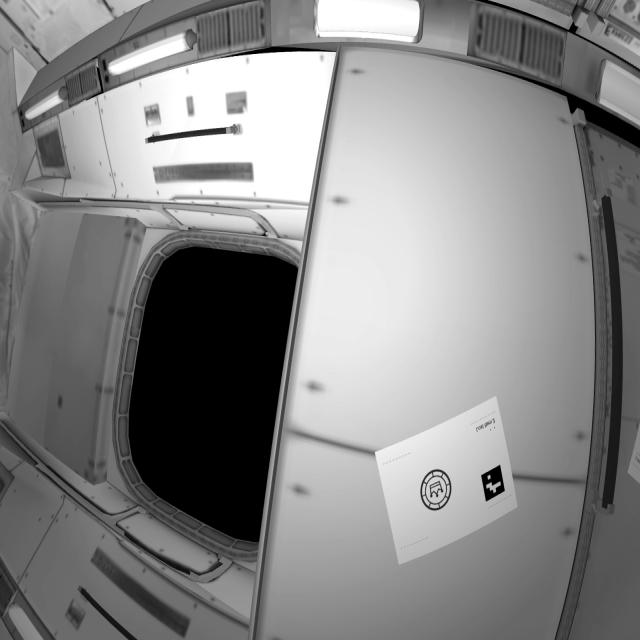coin: (419, 466, 456, 512)
